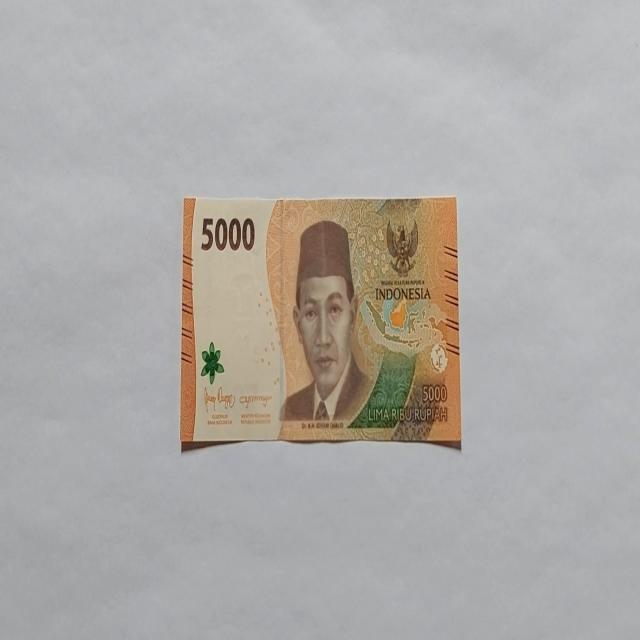lima ribu rupiah: (180, 194, 461, 451), (280, 218, 374, 426)
